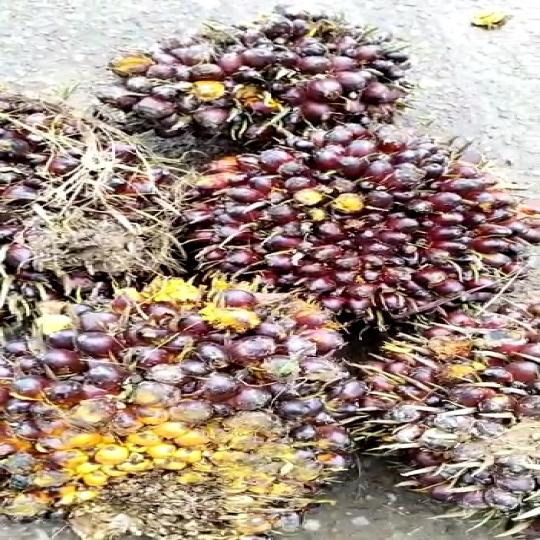kurang masak: (0, 281, 371, 540), (219, 131, 488, 326), (99, 2, 410, 167), (0, 97, 191, 298)
